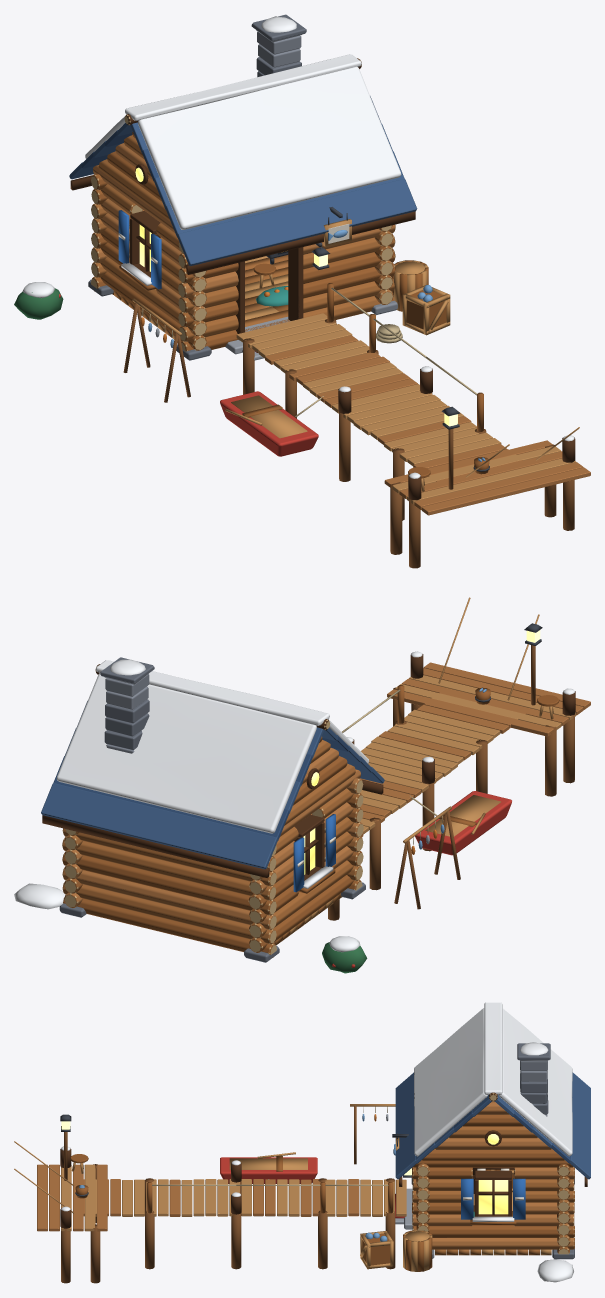
Rendered from fishing.glb.
3 views of the same model, one above another, from view 1: azimuth 30°, elevation 25°; view 2: azimuth 150°, elevation 25°; view 3: azimuth 270°, elevation 25° (orthographic). The views are drawn at different scales.
Visible parts, largest first — view 1: roof, floor, walls, exterior, interior; view 2: roof, walls, floor, exterior; view 3: roof, floor, walls, exterior.
Boxes of the visible parts, x1=… form: roof: x1=69, y1=14, x2=417, y2=274; floor: x1=112, y1=255, x2=590, y2=515; walls: x1=88, y1=165, x2=397, y2=360; exterior: x1=14, y1=260, x2=579, y2=568; interior: x1=253, y1=251, x2=288, y2=306; roof: x1=41, y1=657, x2=384, y2=877; walls: x1=59, y1=769, x2=365, y2=962; floor: x1=273, y1=662, x2=590, y2=945; exterior: x1=14, y1=597, x2=575, y2=973; roof: x1=395, y1=1002, x2=590, y2=1186; floor: x1=37, y1=1164, x2=552, y2=1255; walls: x1=392, y1=1101, x2=574, y2=1259; exterior: x1=14, y1=1104, x2=573, y2=1283.
Size of the model in its own units: 6.01 by 4.81 by 10.66.
